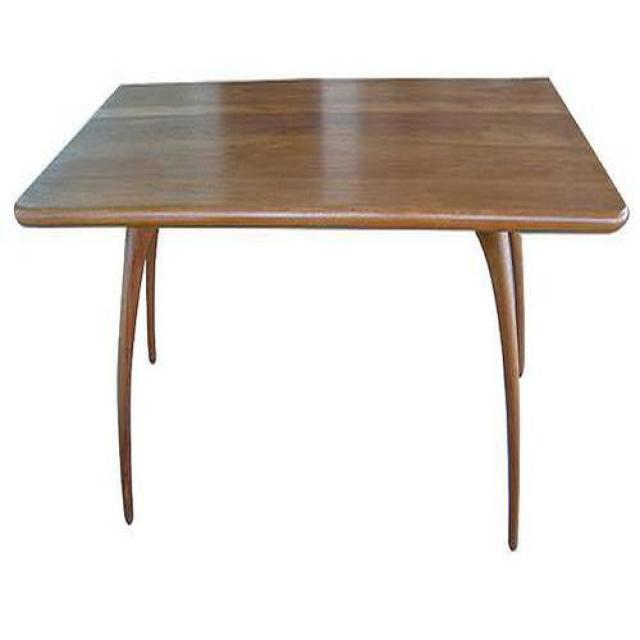table: (13, 77, 631, 544)
